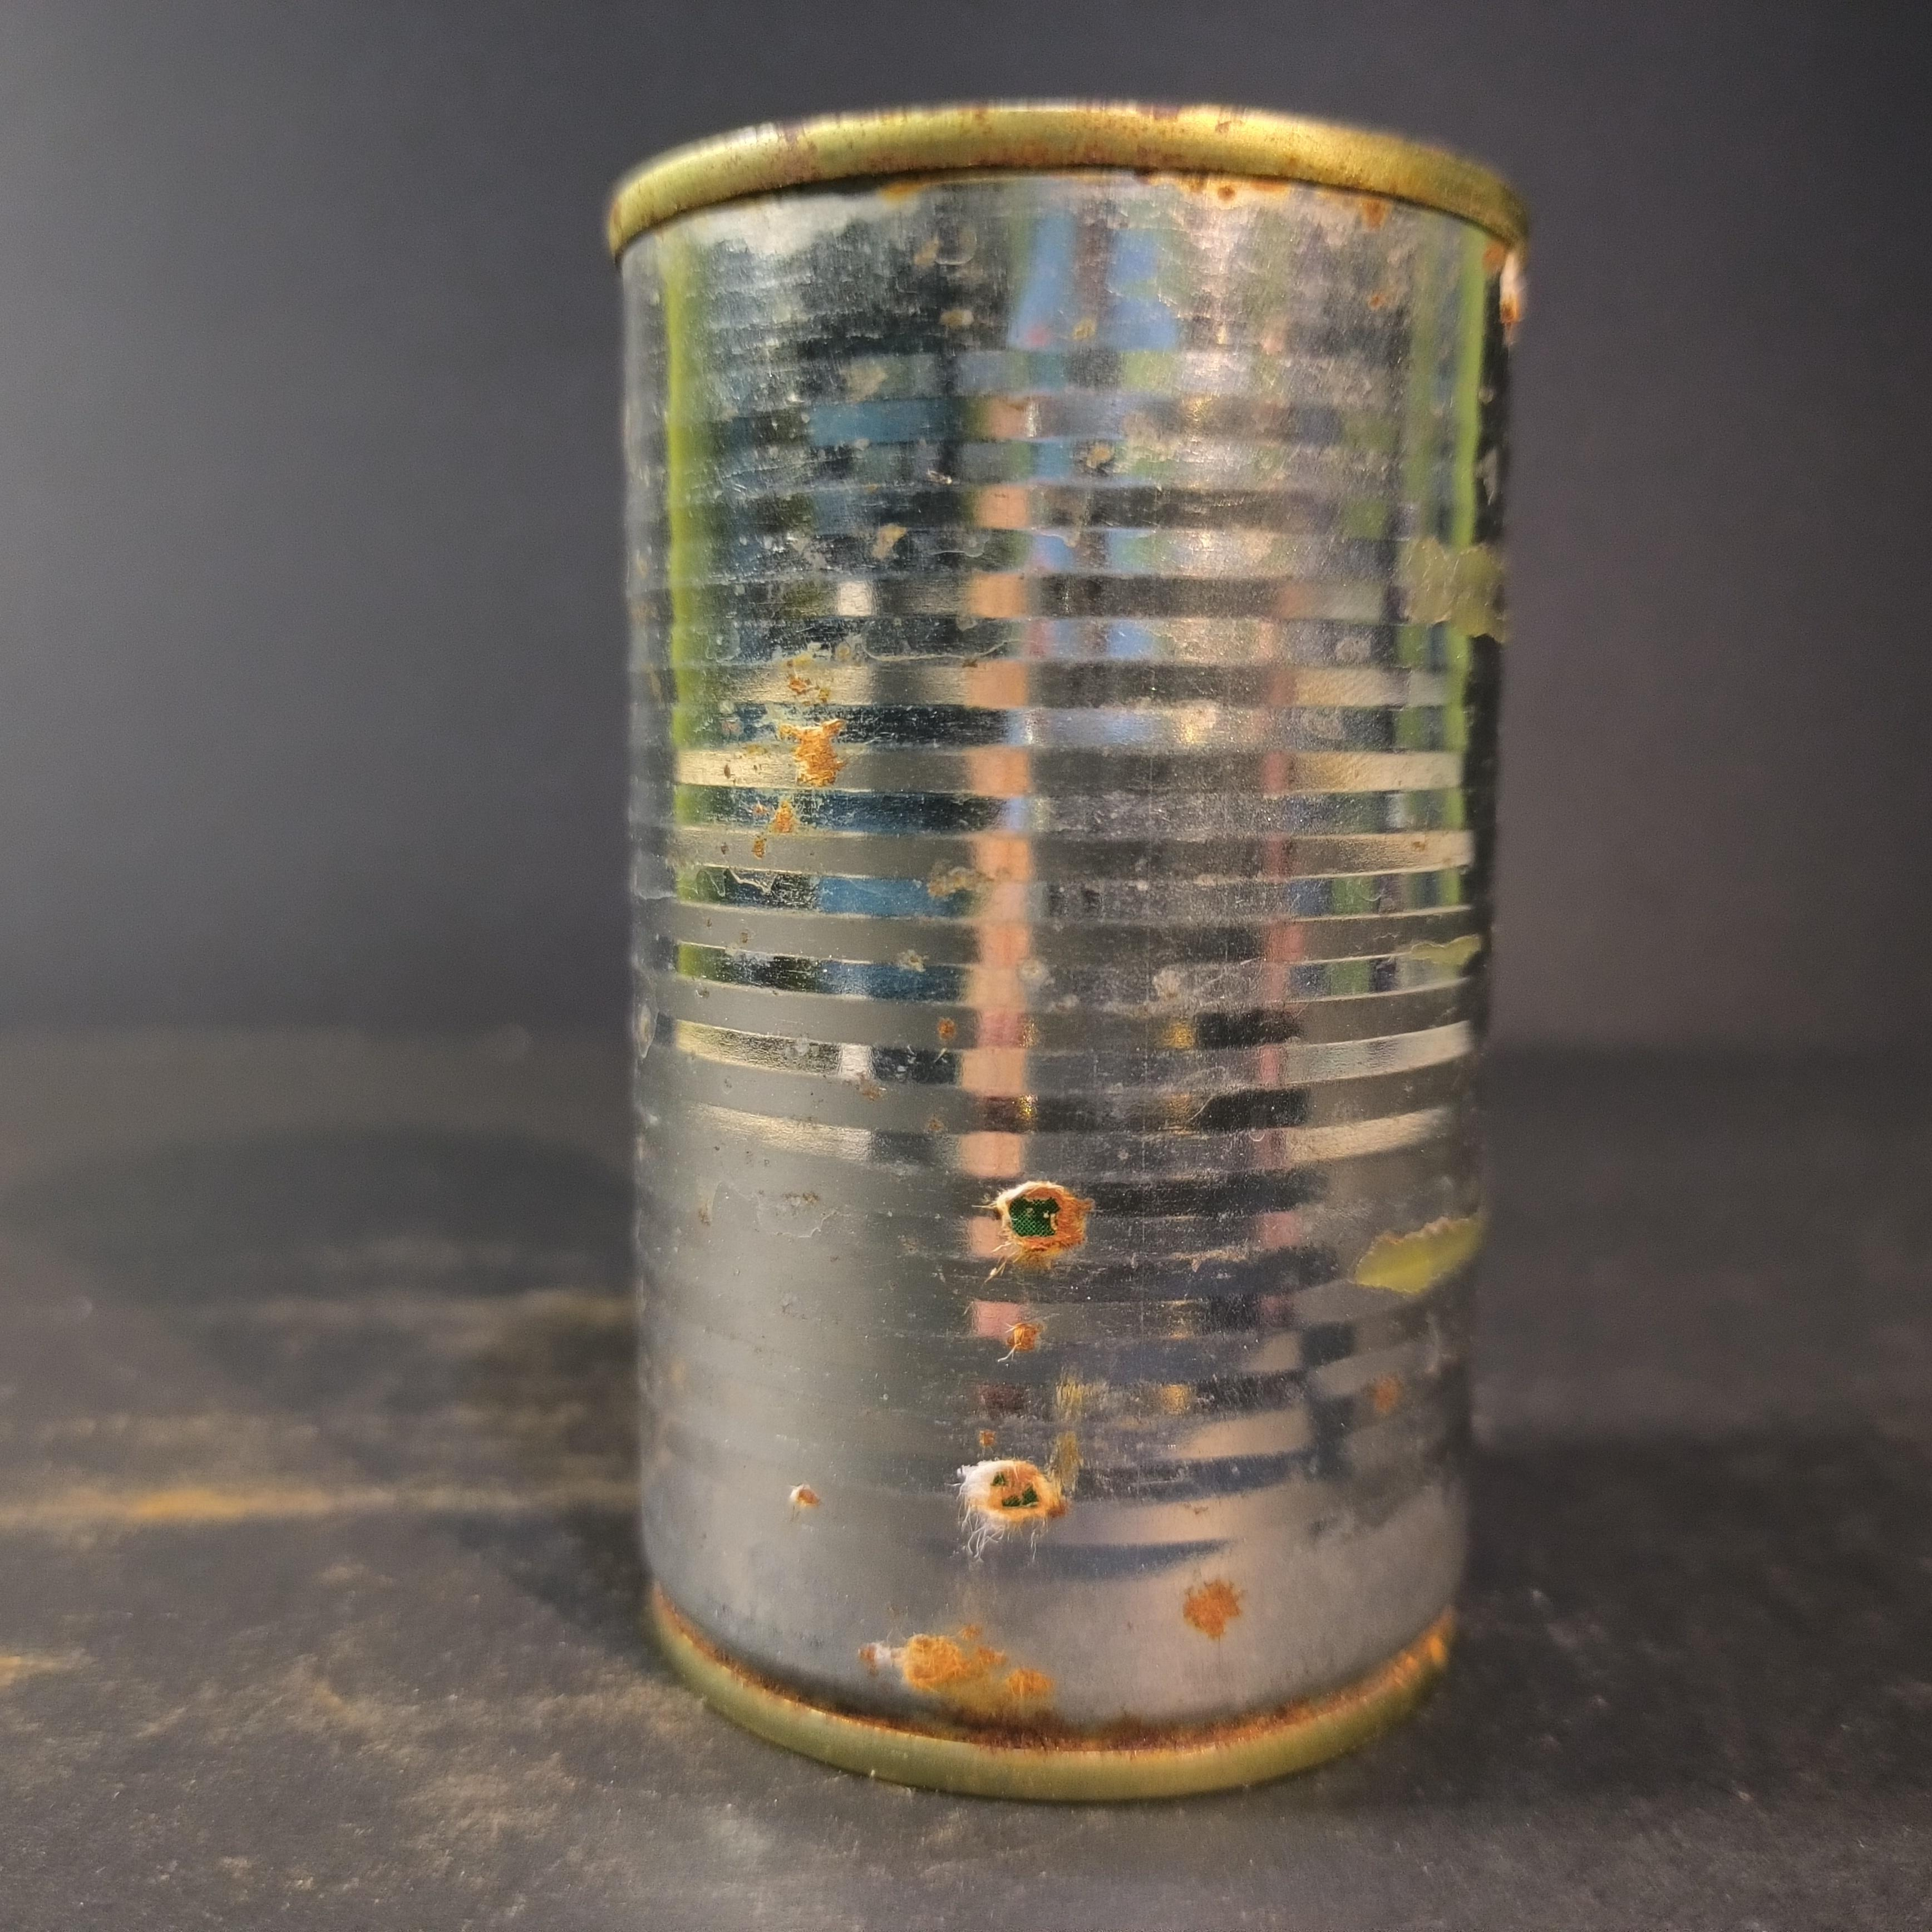Rusted: (589, 62, 1564, 1852)
